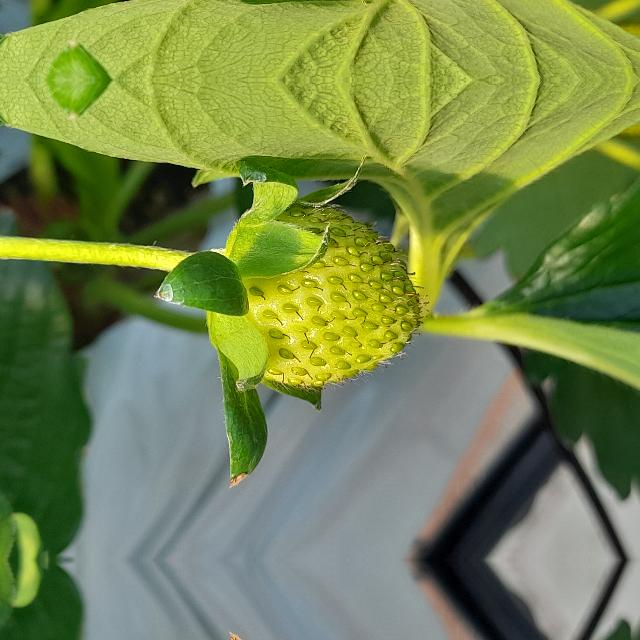Health_25: (242, 203, 430, 393)
